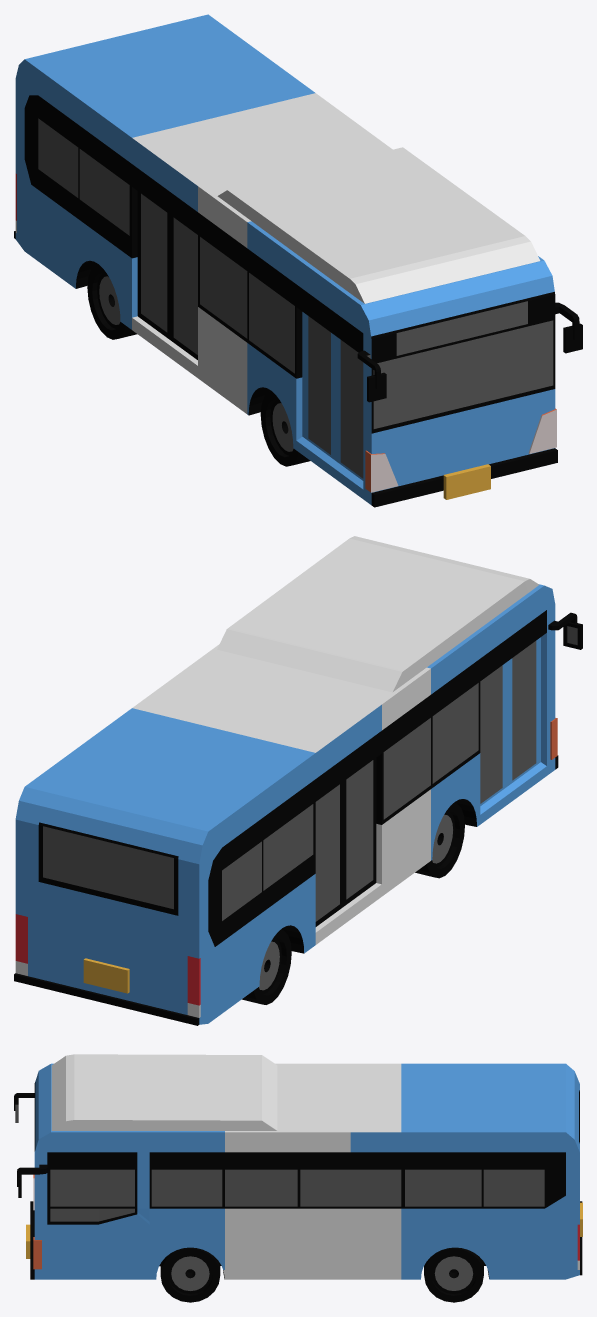
The model's file is bus.fbx.
3 renders of one model, top to bottom at view 1: azimuth 30°, elevation 25°; view 2: azimuth 150°, elevation 25°; view 3: azimuth 270°, elevation 25°, orthographic. The views are drawn at different scales.
Visible parts, largest first — view 1: 큐브, 큐브.001; view 2: 큐브, 큐브.001; view 3: 큐브, 큐브.001.
Boxes of the visible parts, box(x1,y1,x2,y2) form: 큐브: box(14, 14, 582, 507); 큐브.001: box(217, 147, 540, 303); 큐브: box(14, 584, 582, 1025); 큐브.001: box(217, 536, 539, 692); 큐브: box(14, 1063, 582, 1302); 큐브.001: box(51, 1054, 277, 1130).
Bounding box in the file's own units: 4.65 × 4.96 × 13.86.
